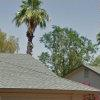Palm tree: (12, 0, 48, 55)
